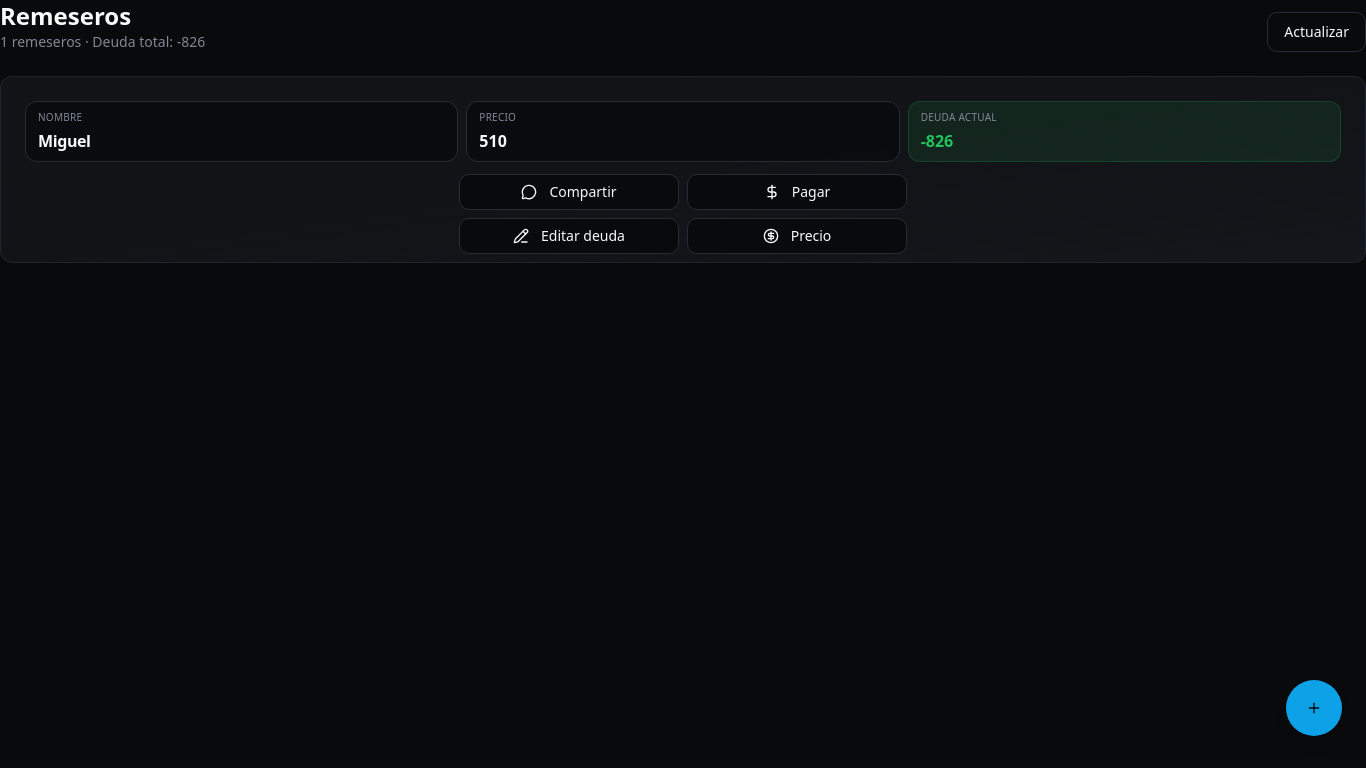
Test: RemeserosView debt editor › opens an existing fund with its absolute amount
What coordinates should you click on to do the following:
click the button "Editar deuda"
I would click on:
 (569, 236)
Its box is [459,218,679,254].
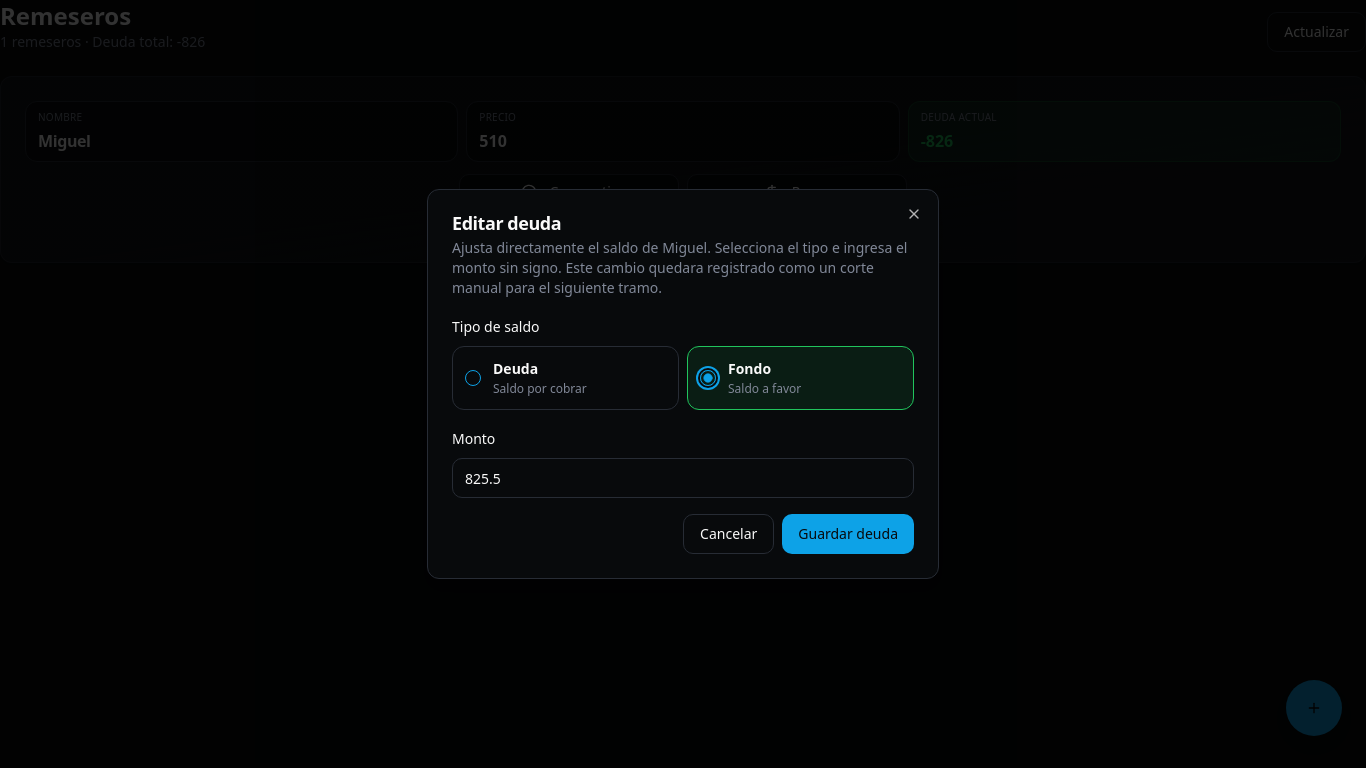
Check: the field labelled "Monto" holds "825.5", box [452,458,914,498]
